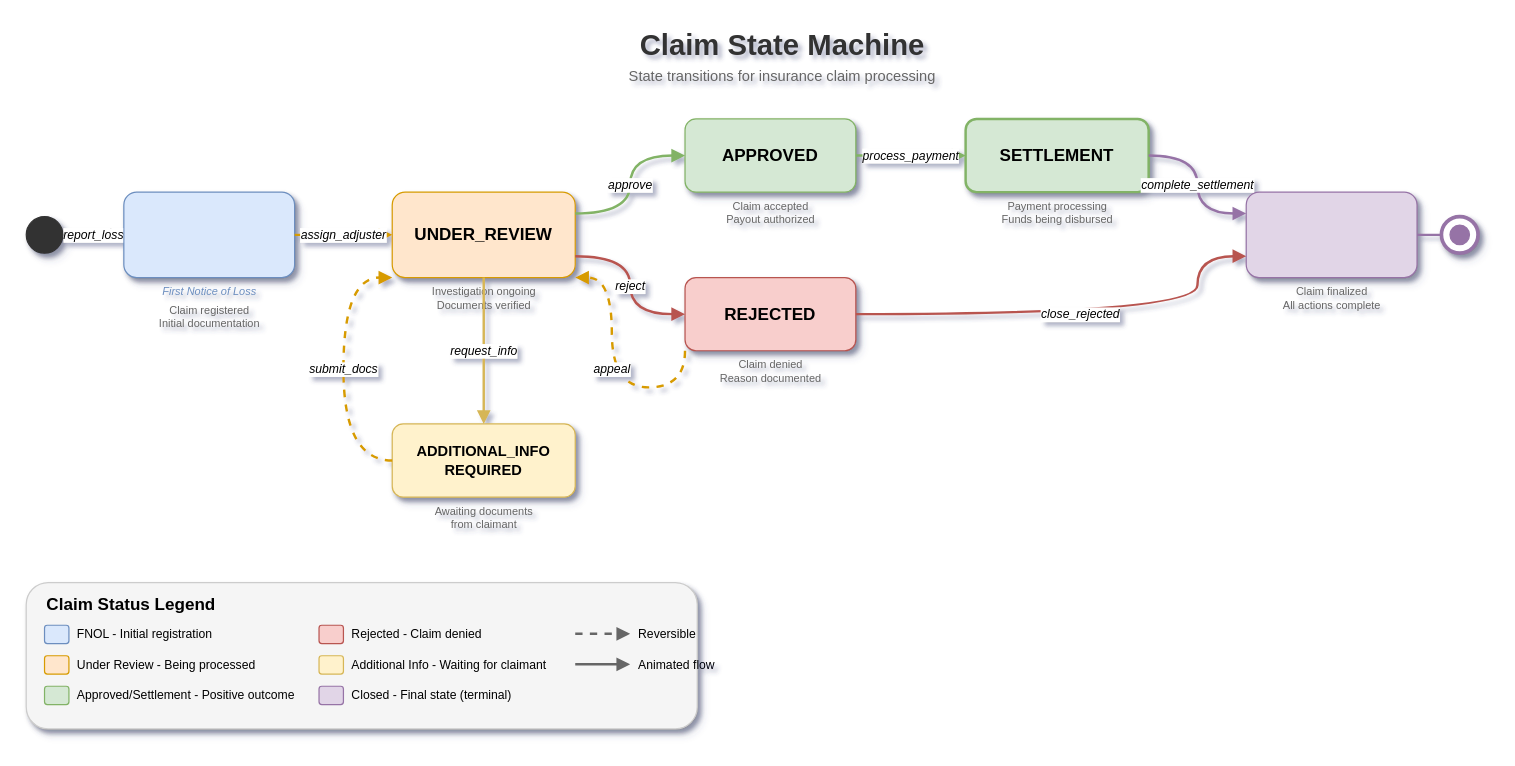
Image size: 1515x766. Some labels were removed from this diagram. Here are the shapes that lost their labels. From the top down, the centre of each, then its label:
At (210,236): "FNOL".
At (1332,236): "CLOSED".
